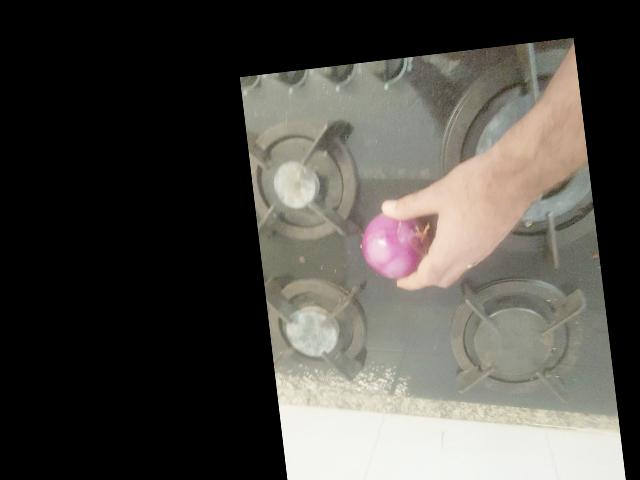onion: (312, 345, 382, 414)
